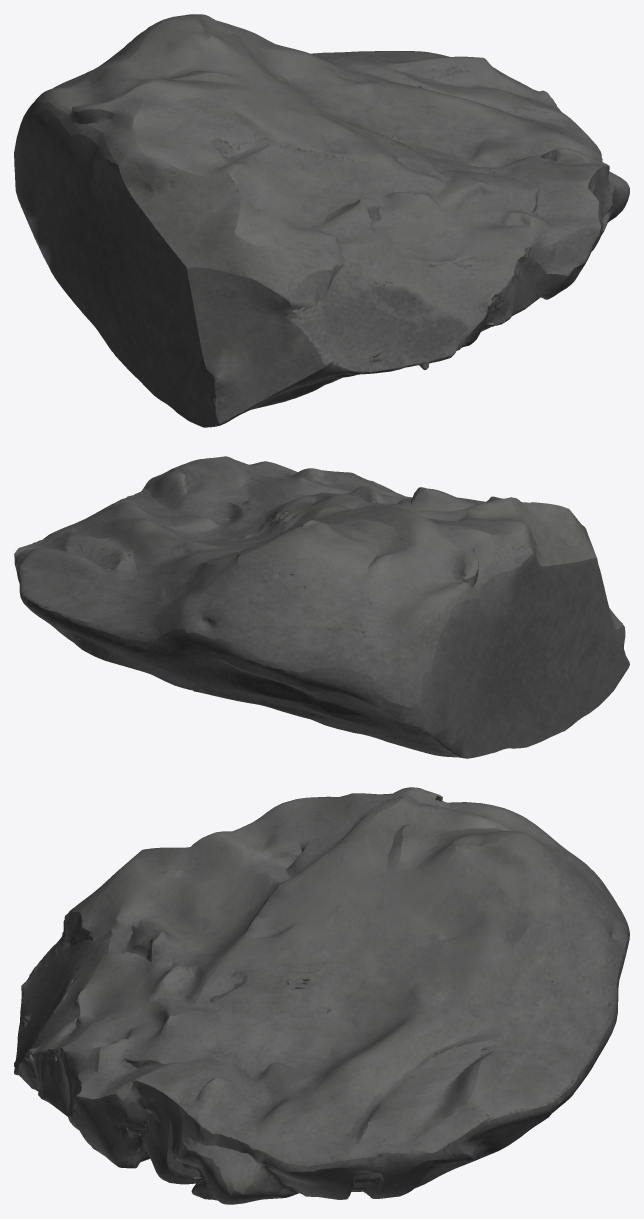
3 views of the same model, one above another, from view 1: azimuth 30°, elevation 25°; view 2: azimuth 150°, elevation 25°; view 3: azimuth 270°, elevation 25° (orthographic). The views are drawn at different scales.
Visible parts, largest first — view 1: world; view 2: world; view 3: world.
Part boxes in pixels (x1,y1,x2,y2): world: (14, 14, 629, 427); world: (14, 456, 629, 758); world: (14, 787, 629, 1204).
Bounding box in the file's own units: 1.2 × 0.6067 × 1.2.
1 material, 1 textured.
